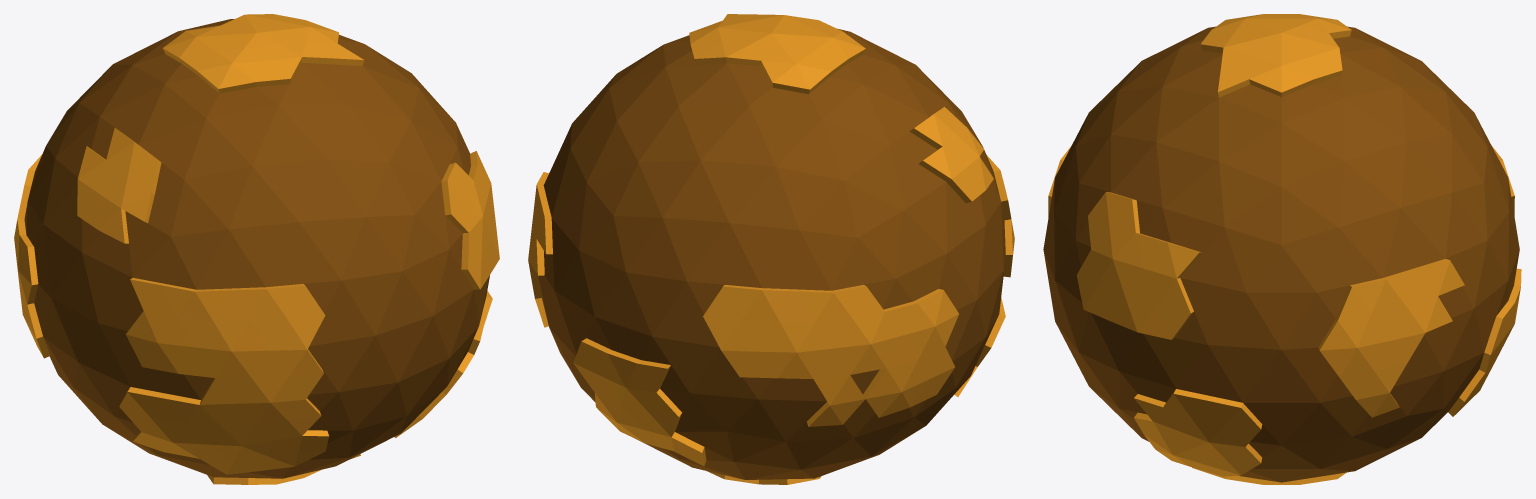
File: Planet03.glb
3 views of the same model, side by side, from view 1: azimuth 30°, elevation 25°; view 2: azimuth 150°, elevation 25°; view 3: azimuth 270°, elevation 25° (orthographic).
Parts seen in each view (by area): view 1: Planet03; view 2: Planet03; view 3: Planet03.
Boxes of the visible parts, x1,y1,x2,y2 form: Planet03: (14,14,499,484); Planet03: (528,14,1014,484); Planet03: (1043,14,1521,484).
Size of the model in its own units: 1 by 1 by 1.
